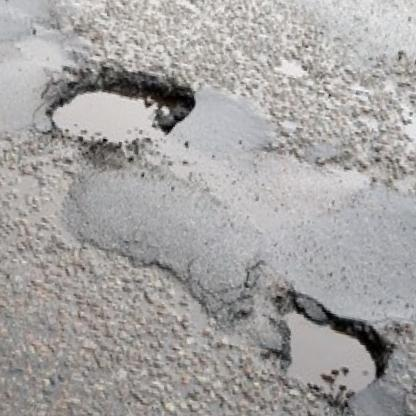pothole: (41, 56, 200, 162), (261, 294, 400, 407)
